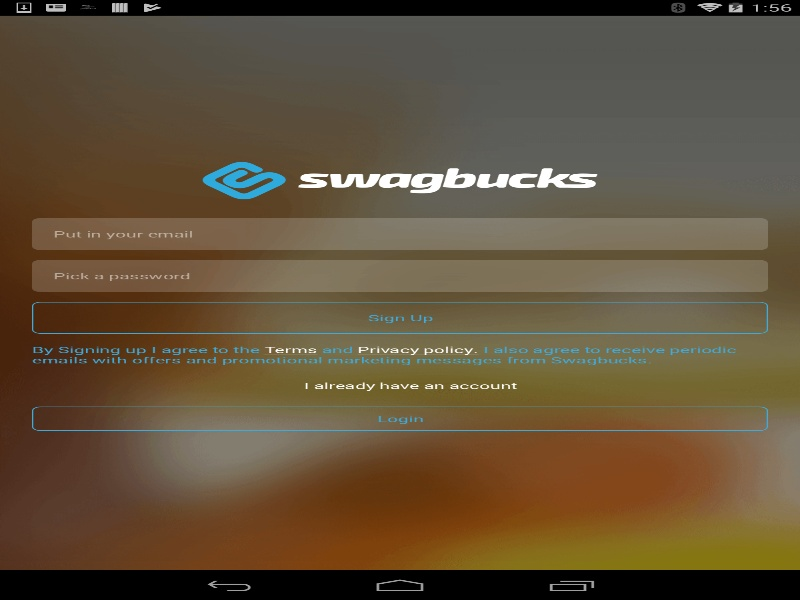Input: (32, 218, 768, 250), (32, 260, 768, 291)
